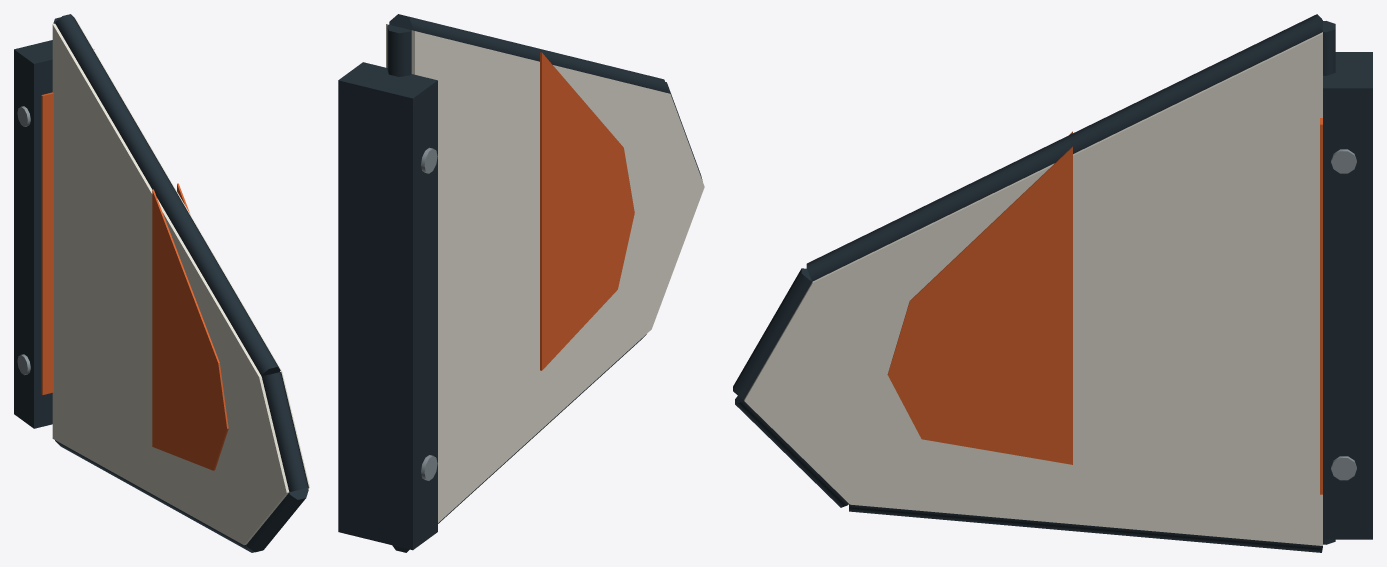
The model's file is s_65_kil.glb.
The picture shows the model from 3 angles, left to right: view 1: azimuth 30°, elevation 25°; view 2: azimuth 150°, elevation 25°; view 3: azimuth 270°, elevation 25°; orthographic projection. The views are drawn at different scales.
Parts seen in each view (by area): view 1: s_65_kil.blade.mesh_JUGRE_·_bone_ceramic, s_65_kil.blade.mesh_JUGRE_·_oxide_orange, s_65_kil.blade.mesh_JUGRE_·_graphite_composite, s_65_kil.mesh_JUGRE_·_graphite_composite, s_65_kil.mesh_JUGRE_·_oxide_orange, s_65_kil.mesh_JUGRE_·_bead-blasted_titanium; view 2: s_65_kil.blade.mesh_JUGRE_·_bone_ceramic, s_65_kil.mesh_JUGRE_·_graphite_composite, s_65_kil.blade.mesh_JUGRE_·_oxide_orange, s_65_kil.blade.mesh_JUGRE_·_graphite_composite, s_65_kil.mesh_JUGRE_·_bead-blasted_titanium; view 3: s_65_kil.blade.mesh_JUGRE_·_bone_ceramic, s_65_kil.blade.mesh_JUGRE_·_oxide_orange, s_65_kil.mesh_JUGRE_·_graphite_composite, s_65_kil.blade.mesh_JUGRE_·_graphite_composite, s_65_kil.mesh_JUGRE_·_oxide_orange, s_65_kil.mesh_JUGRE_·_bead-blasted_titanium.
Part boxes in pixels (x1=…): s_65_kil.blade.mesh_JUGRE_·_bone_ceramic: x1=52, y1=18, x2=309, y2=545; s_65_kil.blade.mesh_JUGRE_·_oxide_orange: x1=152, y1=183, x2=228, y2=470; s_65_kil.blade.mesh_JUGRE_·_graphite_composite: x1=53, y1=14, x2=308, y2=552; s_65_kil.mesh_JUGRE_·_graphite_composite: x1=14, y1=40, x2=94, y2=428; s_65_kil.mesh_JUGRE_·_oxide_orange: x1=41, y1=92, x2=53, y2=394; s_65_kil.mesh_JUGRE_·_bead-blasted_titanium: x1=17, y1=106, x2=30, y2=375; s_65_kil.blade.mesh_JUGRE_·_bone_ceramic: x1=386, y1=24, x2=704, y2=522; s_65_kil.mesh_JUGRE_·_graphite_composite: x1=338, y1=62, x2=437, y2=550; s_65_kil.blade.mesh_JUGRE_·_oxide_orange: x1=540, y1=52, x2=634, y2=370; s_65_kil.blade.mesh_JUGRE_·_graphite_composite: x1=387, y1=14, x2=702, y2=552; s_65_kil.mesh_JUGRE_·_bead-blasted_titanium: x1=421, y1=147, x2=437, y2=480; s_65_kil.blade.mesh_JUGRE_·_bone_ceramic: x1=744, y1=32, x2=1322, y2=545; s_65_kil.blade.mesh_JUGRE_·_oxide_orange: x1=887, y1=131, x2=1072, y2=464; s_65_kil.mesh_JUGRE_·_graphite_composite: x1=1323, y1=52, x2=1372, y2=539; s_65_kil.blade.mesh_JUGRE_·_graphite_composite: x1=733, y1=14, x2=1335, y2=552; s_65_kil.mesh_JUGRE_·_oxide_orange: x1=1320, y1=118, x2=1322, y2=494; s_65_kil.mesh_JUGRE_·_bead-blasted_titanium: x1=1331, y1=149, x2=1356, y2=480.
Size of the model in its own units: 0.1659 by 1.03 by 1.12.
